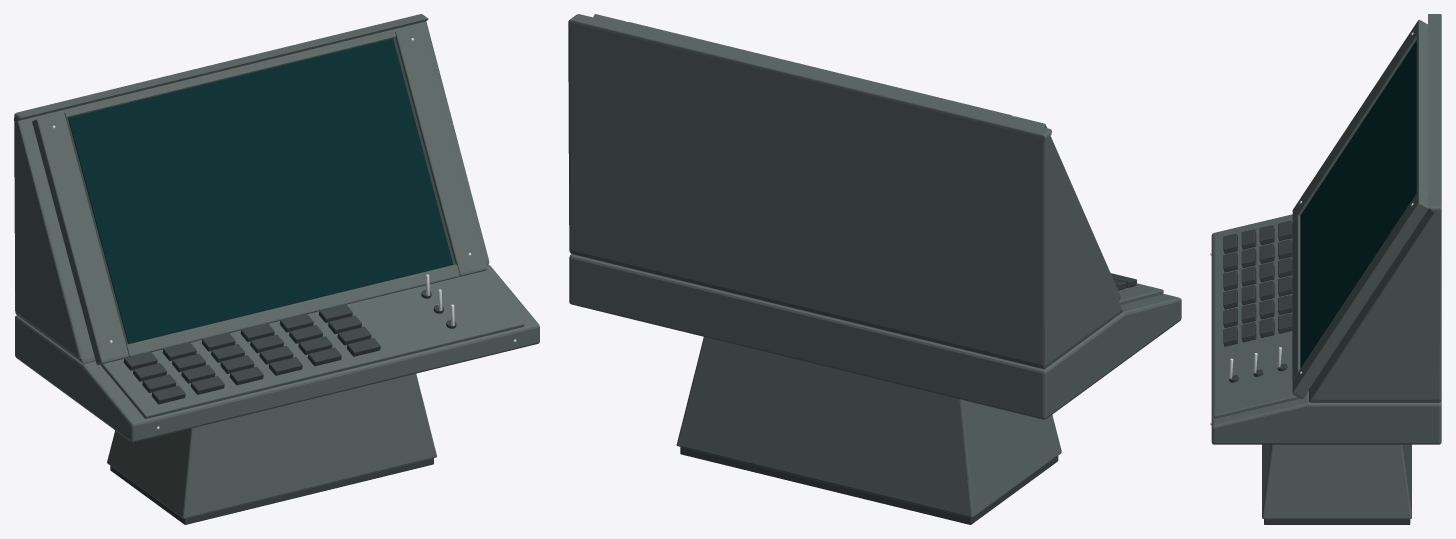
File: console.glb
The picture shows the model from 3 angles, left to right: view 1: azimuth 30°, elevation 25°; view 2: azimuth 150°, elevation 25°; view 3: azimuth 270°, elevation 25°; orthographic projection. The views are drawn at different scales.
Parts seen in each view (by area): view 1: Display, DesktopSupport, ArmouredHousing, ControlPanel, LowerDeckHousing, BezelLeft, BezelRight, BezelBottom, BaseShoe, ScreenGasket, BezelTop; view 2: ArmouredHousing, DesktopSupport, LowerDeckHousing, BaseShoe, BezelTop, BezelLeft; view 3: Display, ArmouredHousing, DesktopSupport, LowerDeckHousing, ControlPanel, BezelRight, BezelLeft, BezelTop, BezelBottom, BaseShoe, Key_1_1, Key_2_1 (+10 smaller).
Boxes of the visible parts, left/top/right/bottom form: Display: left=68, top=38, right=452, bottom=343; DesktopSupport: left=107, top=373, right=436, bottom=518; ArmouredHousing: left=14, top=14, right=489, bottom=363; ControlPanel: left=101, top=272, right=524, bottom=418; LowerDeckHousing: left=15, top=264, right=539, bottom=442; BezelLeft: left=32, top=113, right=128, bottom=365; BezelRight: left=395, top=25, right=487, bottom=276; BezelBottom: left=126, top=264, right=459, bottom=356; BaseShoe: left=110, top=458, right=433, bottom=524; ScreenGasket: left=65, top=37, right=455, bottom=344; BezelTop: left=64, top=32, right=395, bottom=117; ArmouredHousing: left=568, top=14, right=1122, bottom=369; DesktopSupport: left=676, top=337, right=1061, bottom=517; LowerDeckHousing: left=569, top=254, right=1181, bottom=419; BaseShoe: left=680, top=447, right=1058, bottom=524; BezelTop: left=625, top=22, right=1012, bottom=119; BezelLeft: left=1012, top=116, right=1120, bottom=300; Display: left=1300, top=40, right=1416, bottom=368; ArmouredHousing: left=1309, top=14, right=1441, bottom=402; DesktopSupport: left=1262, top=444, right=1411, bottom=518; LowerDeckHousing: left=1211, top=214, right=1441, bottom=444; ControlPanel: left=1214, top=217, right=1304, bottom=418; BezelRight: left=1292, top=190, right=1428, bottom=398; BezelLeft: left=1292, top=19, right=1427, bottom=222; BezelTop: left=1416, top=33, right=1427, bottom=194; BezelBottom: left=1292, top=215, right=1300, bottom=380; BaseShoe: left=1264, top=519, right=1410, bottom=524; Key_1_1: left=1241, top=248, right=1256, bottom=267; Key_2_1: left=1259, top=243, right=1274, bottom=263.
Size of the model in its own units: 1.1 by 0.9389 by 0.5531.
